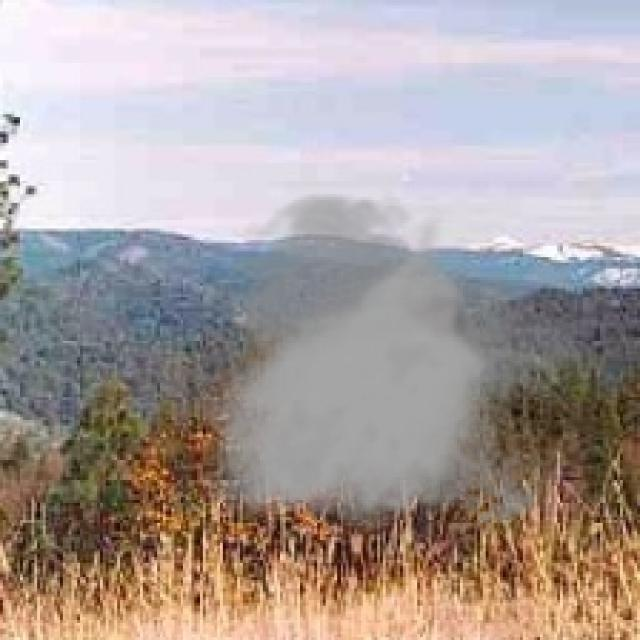smoke: (194, 189, 583, 537)
